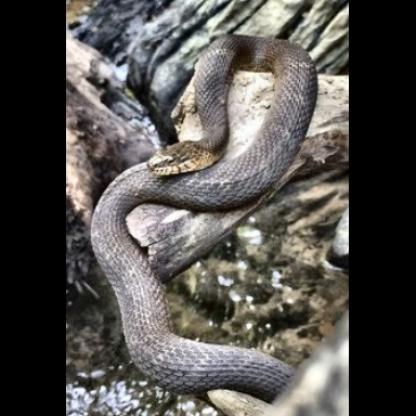Snake: (84, 3, 328, 410), (109, 10, 324, 236)
